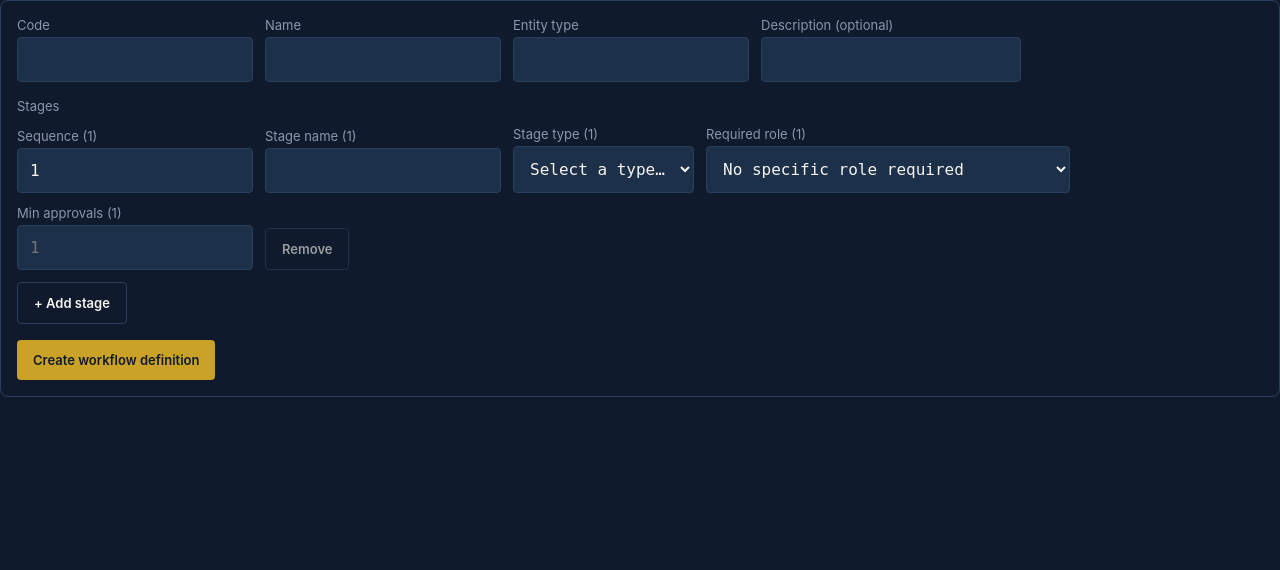
Test: CreateWorkflowDefinitionForm › adds a new stage row with the next sequence number pre-filled
Step 1. Click the button "+ Add stage" → (72, 303), box [17, 282, 127, 324]
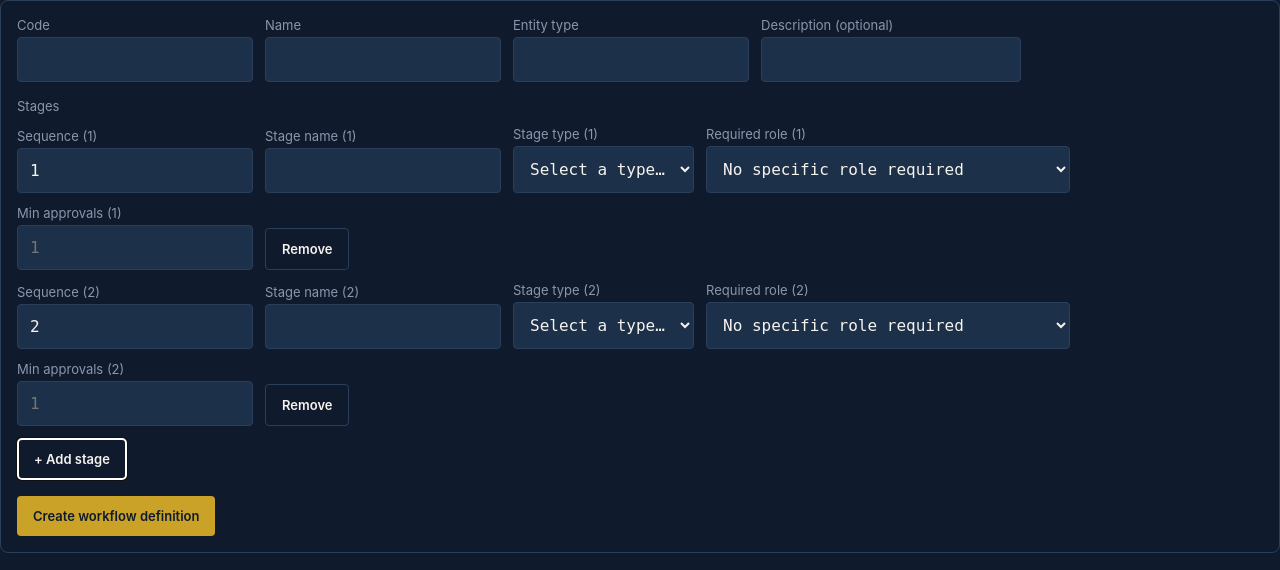
Expected: the number field labelled "Sequence (2)" holds "2", [17, 304, 253, 349]
